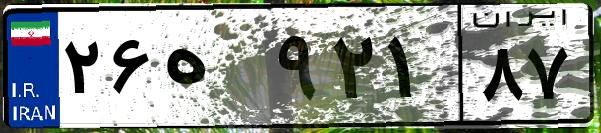1: (385, 28, 445, 110)
2: (330, 28, 385, 110), (57, 26, 110, 100)
6: (110, 28, 158, 98)
7: (525, 38, 570, 115)
8: (475, 38, 525, 113)
9: (270, 28, 330, 110)
ه: (158, 20, 270, 120)
